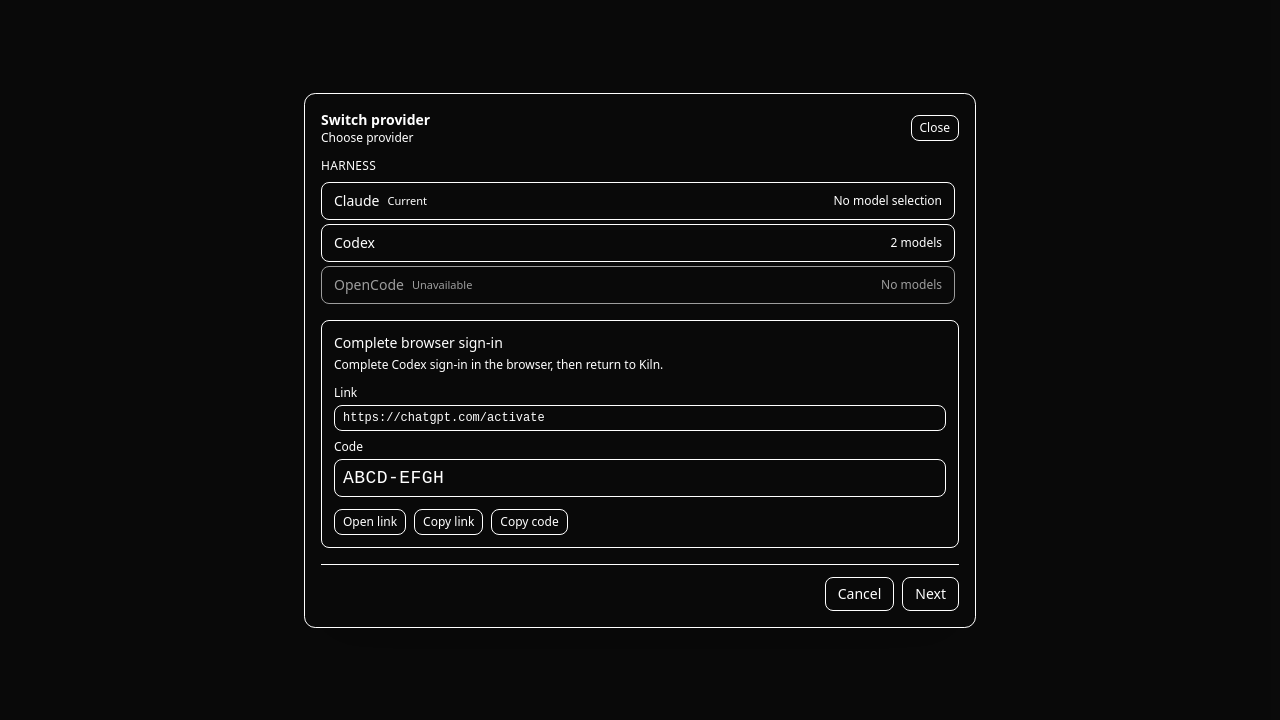
ProviderPicker › renders device-code auth link and code with copy actions
Expected: the text "https://chatgpt.com/activate" is shown, [334,404,946,430]
Expected: the text "ABCD-EFGH" is shown, [334,458,946,496]
Click the button "Copy link": (449, 522) [414,508,483,534]
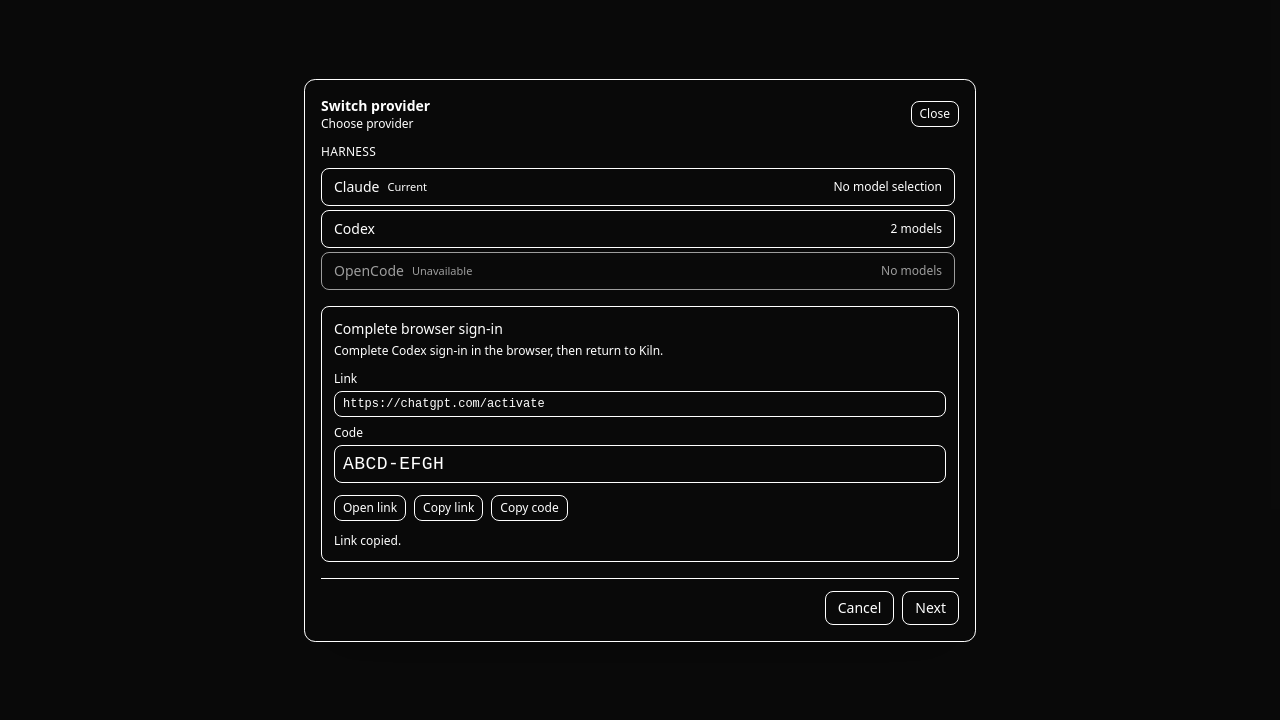
Expected: the text "Link copied." is shown, [334,532,401,548]
